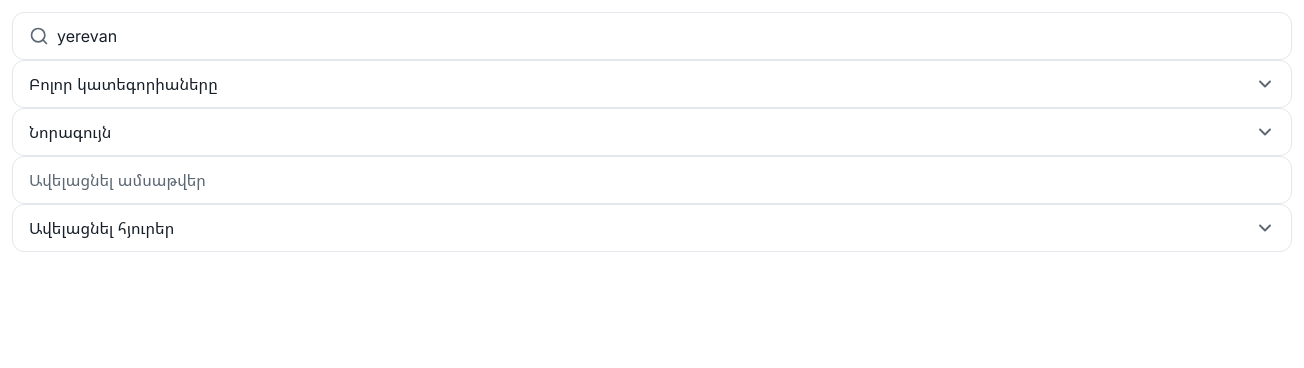
Test: SearchFilters (apps/web/src/modules/search) › includes "relevance" once a destination is present
The image size is (1304, 368).
Click the button with test id "select-trigger" showing "Նորագույն". click: (70, 132)
box: [12,108,1292,156]
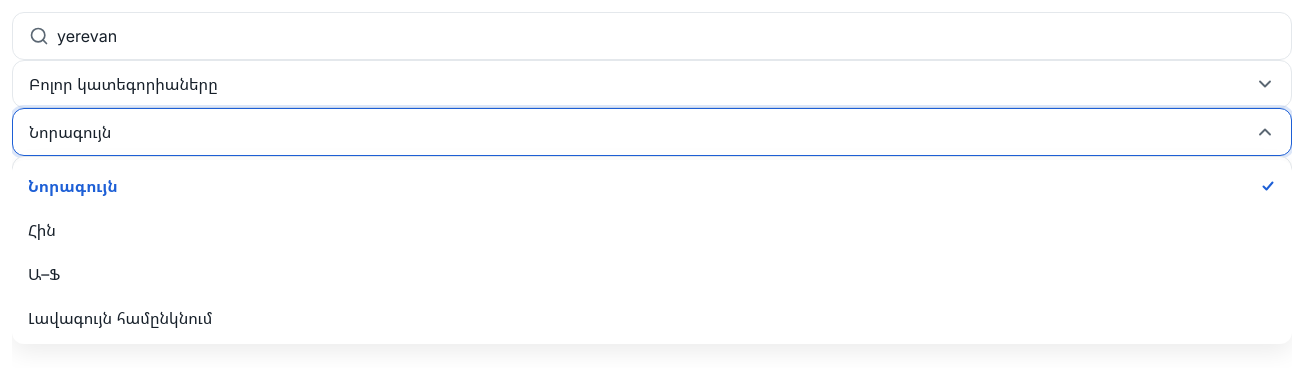
Check: the text "Լավագույն համընկնում" is shown, box [28,306,212,330]
